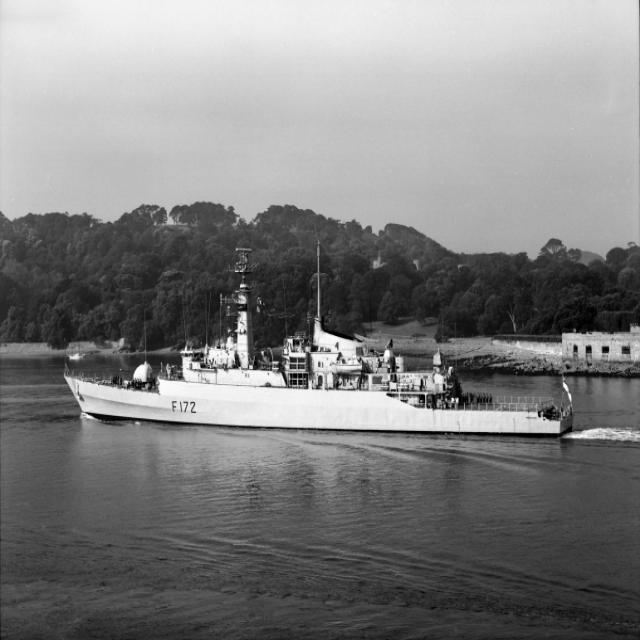Fragata: (58, 236, 573, 443)
